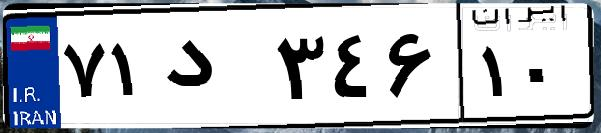0: (525, 38, 570, 115)
1: (475, 38, 525, 113), (110, 28, 158, 98)
3: (270, 28, 330, 110)
4: (330, 28, 385, 110)
6: (385, 28, 445, 110)
7: (57, 26, 110, 100)
د: (158, 20, 270, 120)
